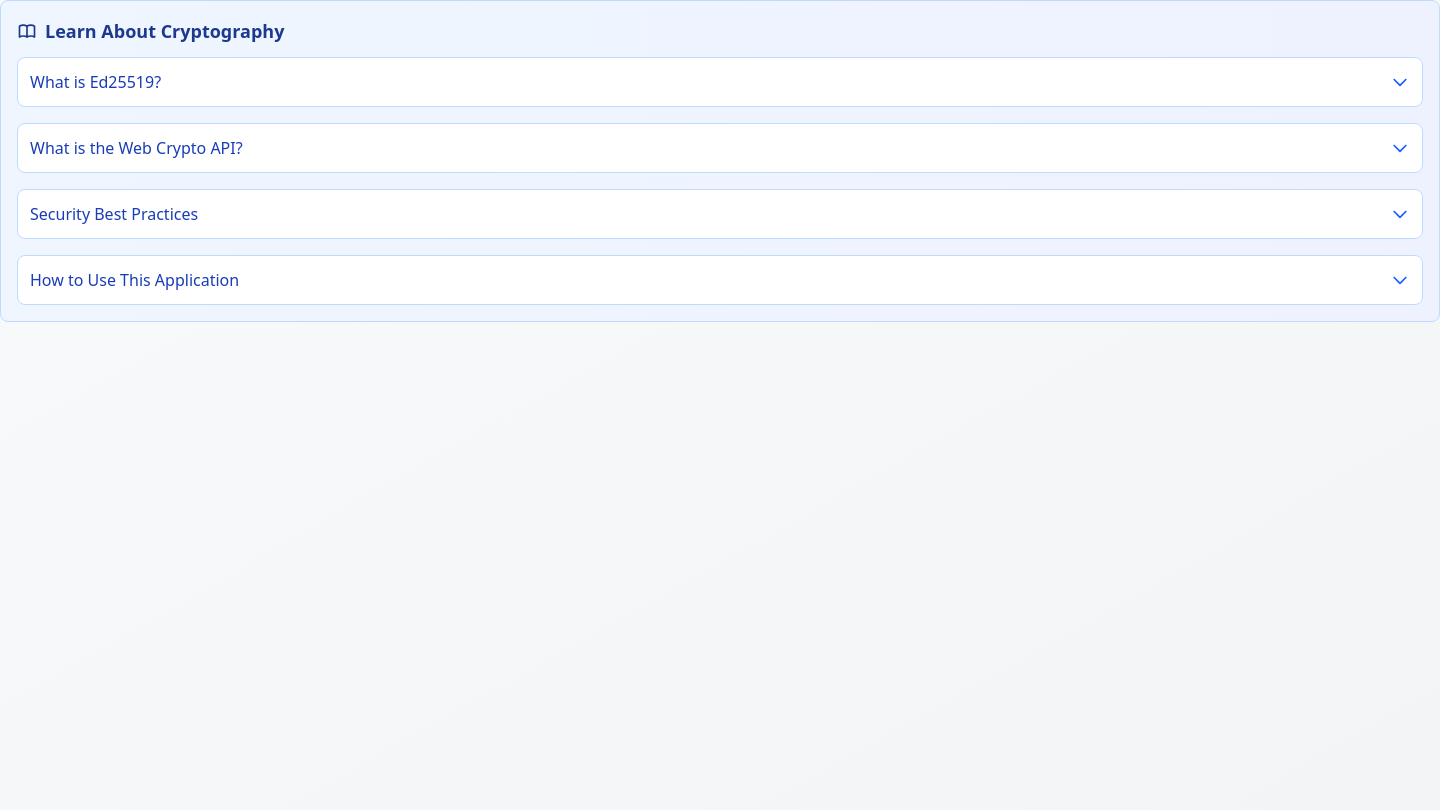
it: EducationalContent › should display educational content when sections are expanded
// Expand Web Crypto API section
Click the button "What is the Web Crypto API?" at (136, 148), box left=17, top=123, right=1423, bottom=173
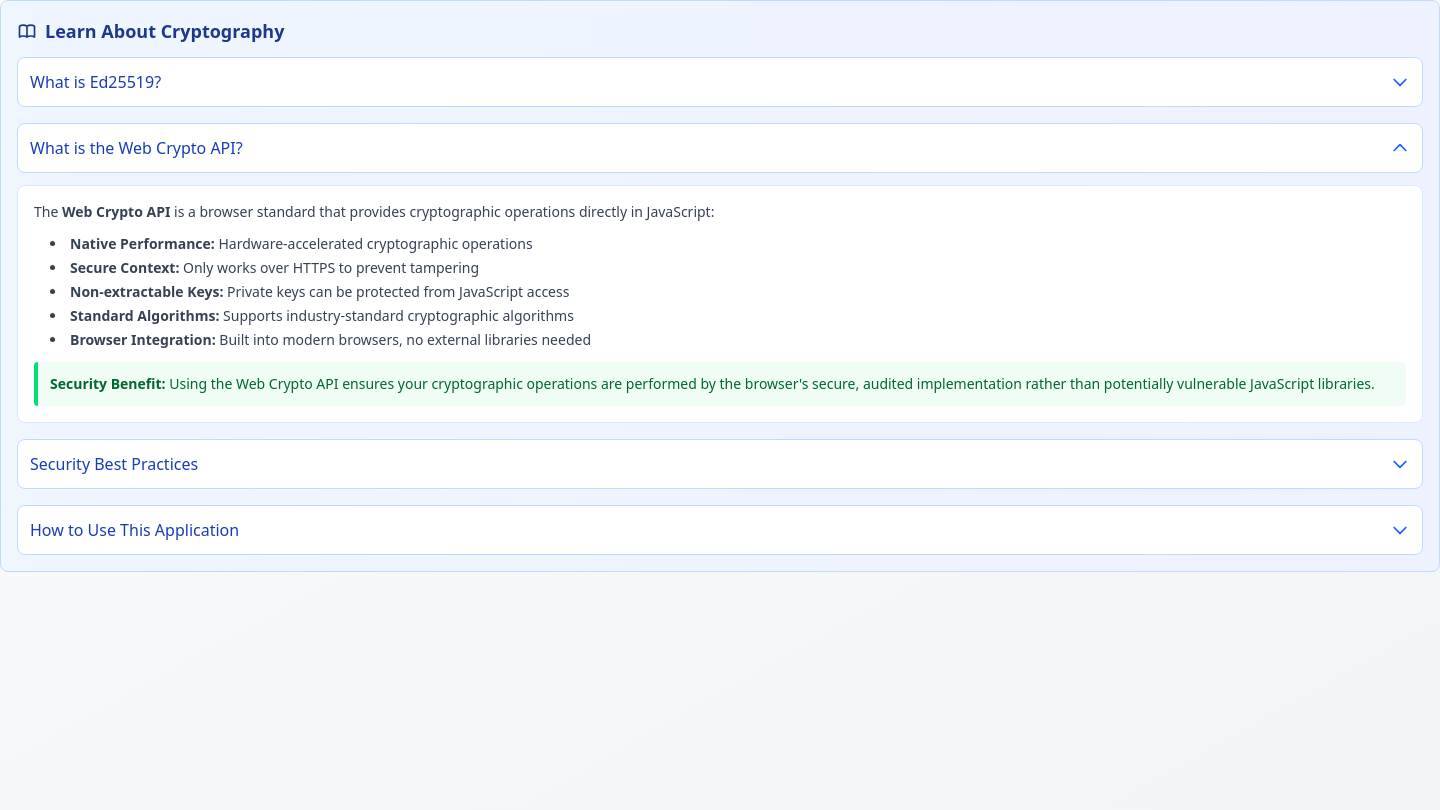
Result: the text "Native Performance:" is shown at left=70, top=234, right=215, bottom=253
Result: the text "Secure Context:" is shown at left=70, top=258, right=179, bottom=277
// Expand Security section
Click the button "Security Best Practices" at (114, 464), box left=17, top=439, right=1423, bottom=489
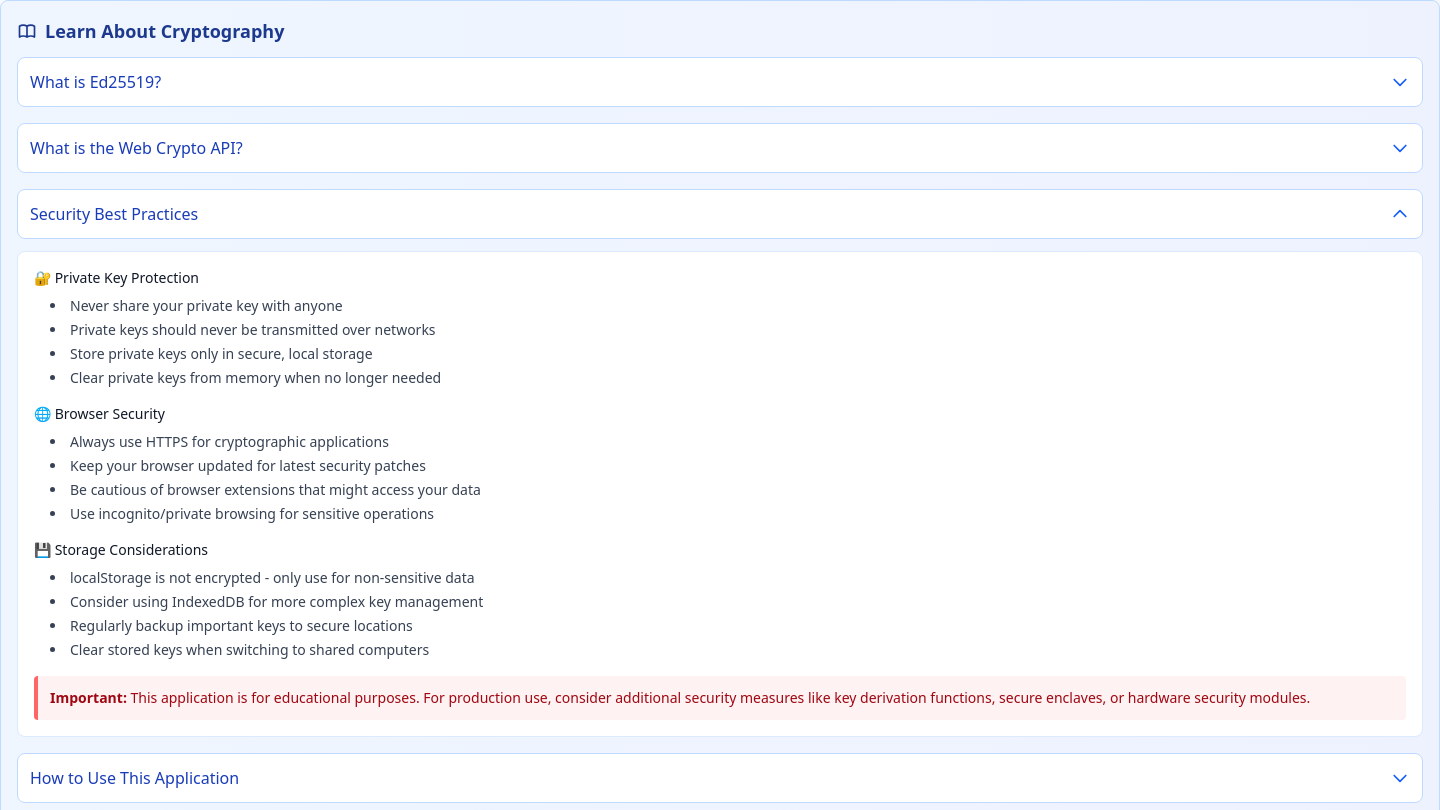
Result: the heading "🔐 Private Key Protection" is shown at left=34, top=268, right=199, bottom=287
Result: the heading "🌐 Browser Security" is shown at left=34, top=404, right=165, bottom=423
